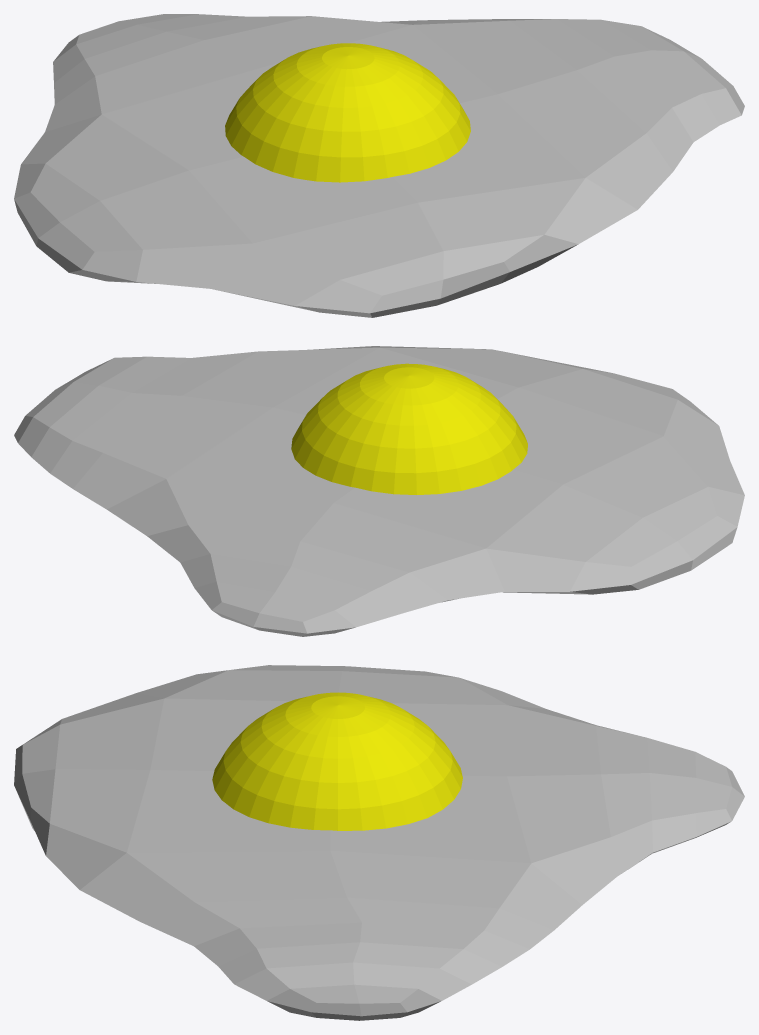
The model's file is fried egg.fbx.
3 renders of one model, top to bottom at view 1: azimuth 30°, elevation 25°; view 2: azimuth 150°, elevation 25°; view 3: azimuth 270°, elevation 25°, orthographic. The views are drawn at different scales.
Visible parts, largest first — view 1: Cube, Sphere; view 2: Cube, Sphere; view 3: Cube, Sphere.
Boxes of the visible parts, bbox=[...] form: Cube: bbox=[14, 14, 744, 317]; Sphere: bbox=[225, 43, 470, 182]; Cube: bbox=[14, 346, 744, 636]; Sphere: bbox=[291, 363, 527, 494]; Cube: bbox=[14, 665, 744, 1020]; Sphere: bbox=[212, 692, 462, 830].
Size of the model in its own units: 584 by 105 by 530.
